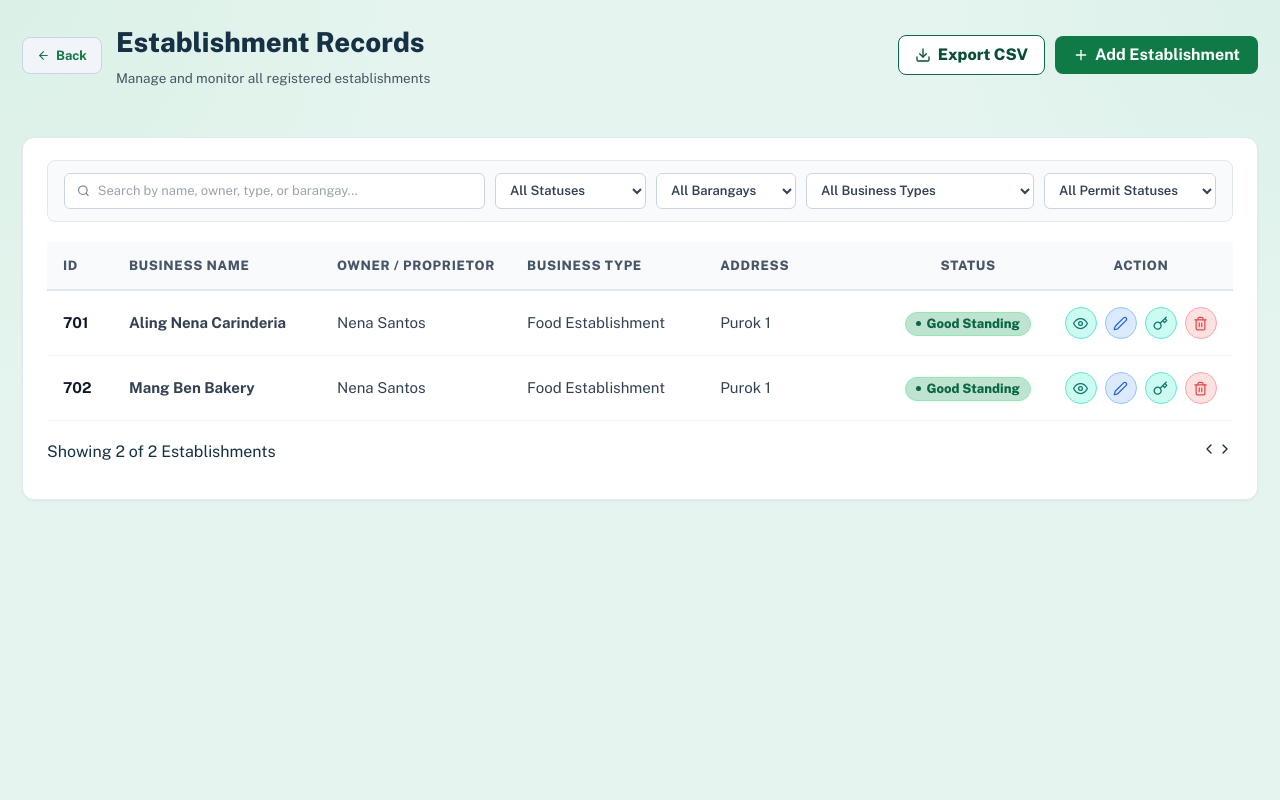
Test: Print Owner's Slip › a failure closes the window and shows the server's message
The width and height of the screenshot is (1280, 800).
Click the button titled "View establishment" in the row of "701" at (1081, 323), box [1065, 307, 1097, 339]
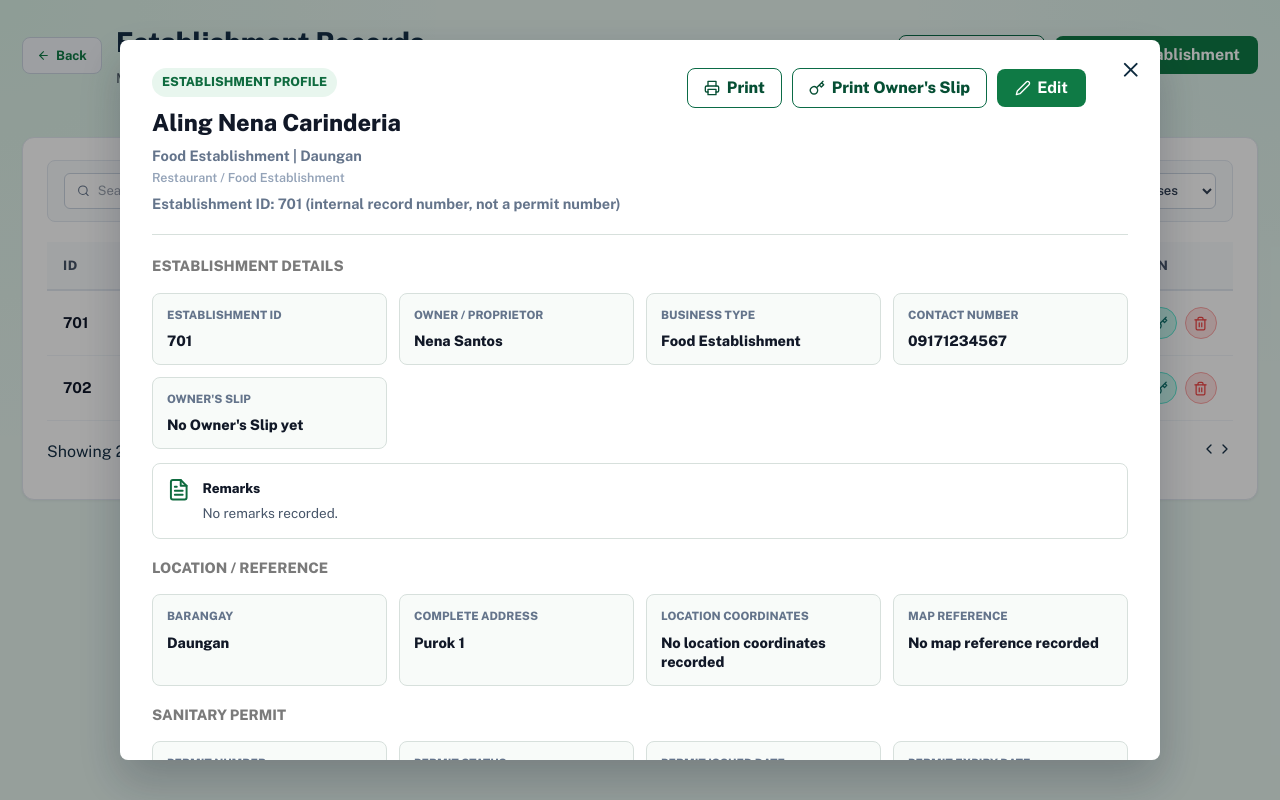
Click the button "Print Owner's Slip" at (890, 88), box [792, 68, 987, 108]
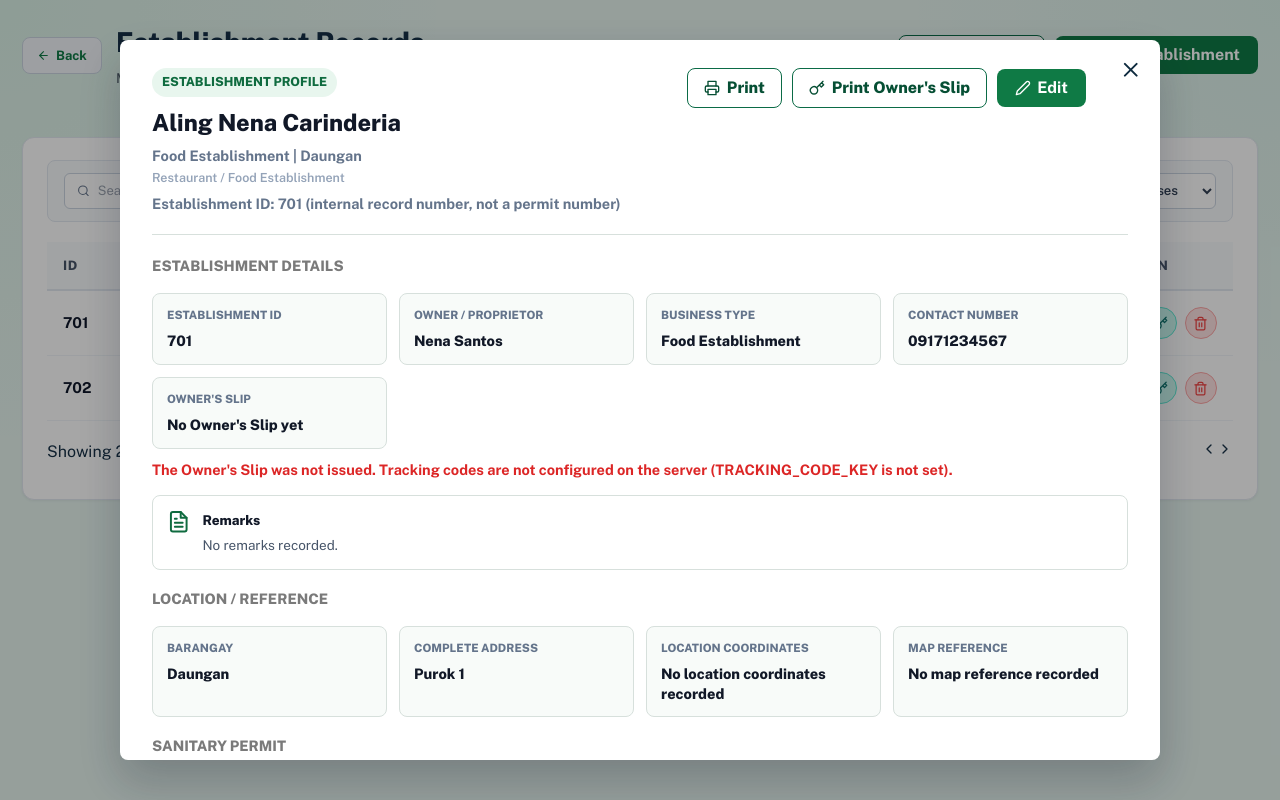
Expected: the message shows "Tracking codes are not configured on the server", [152, 461, 953, 478]
